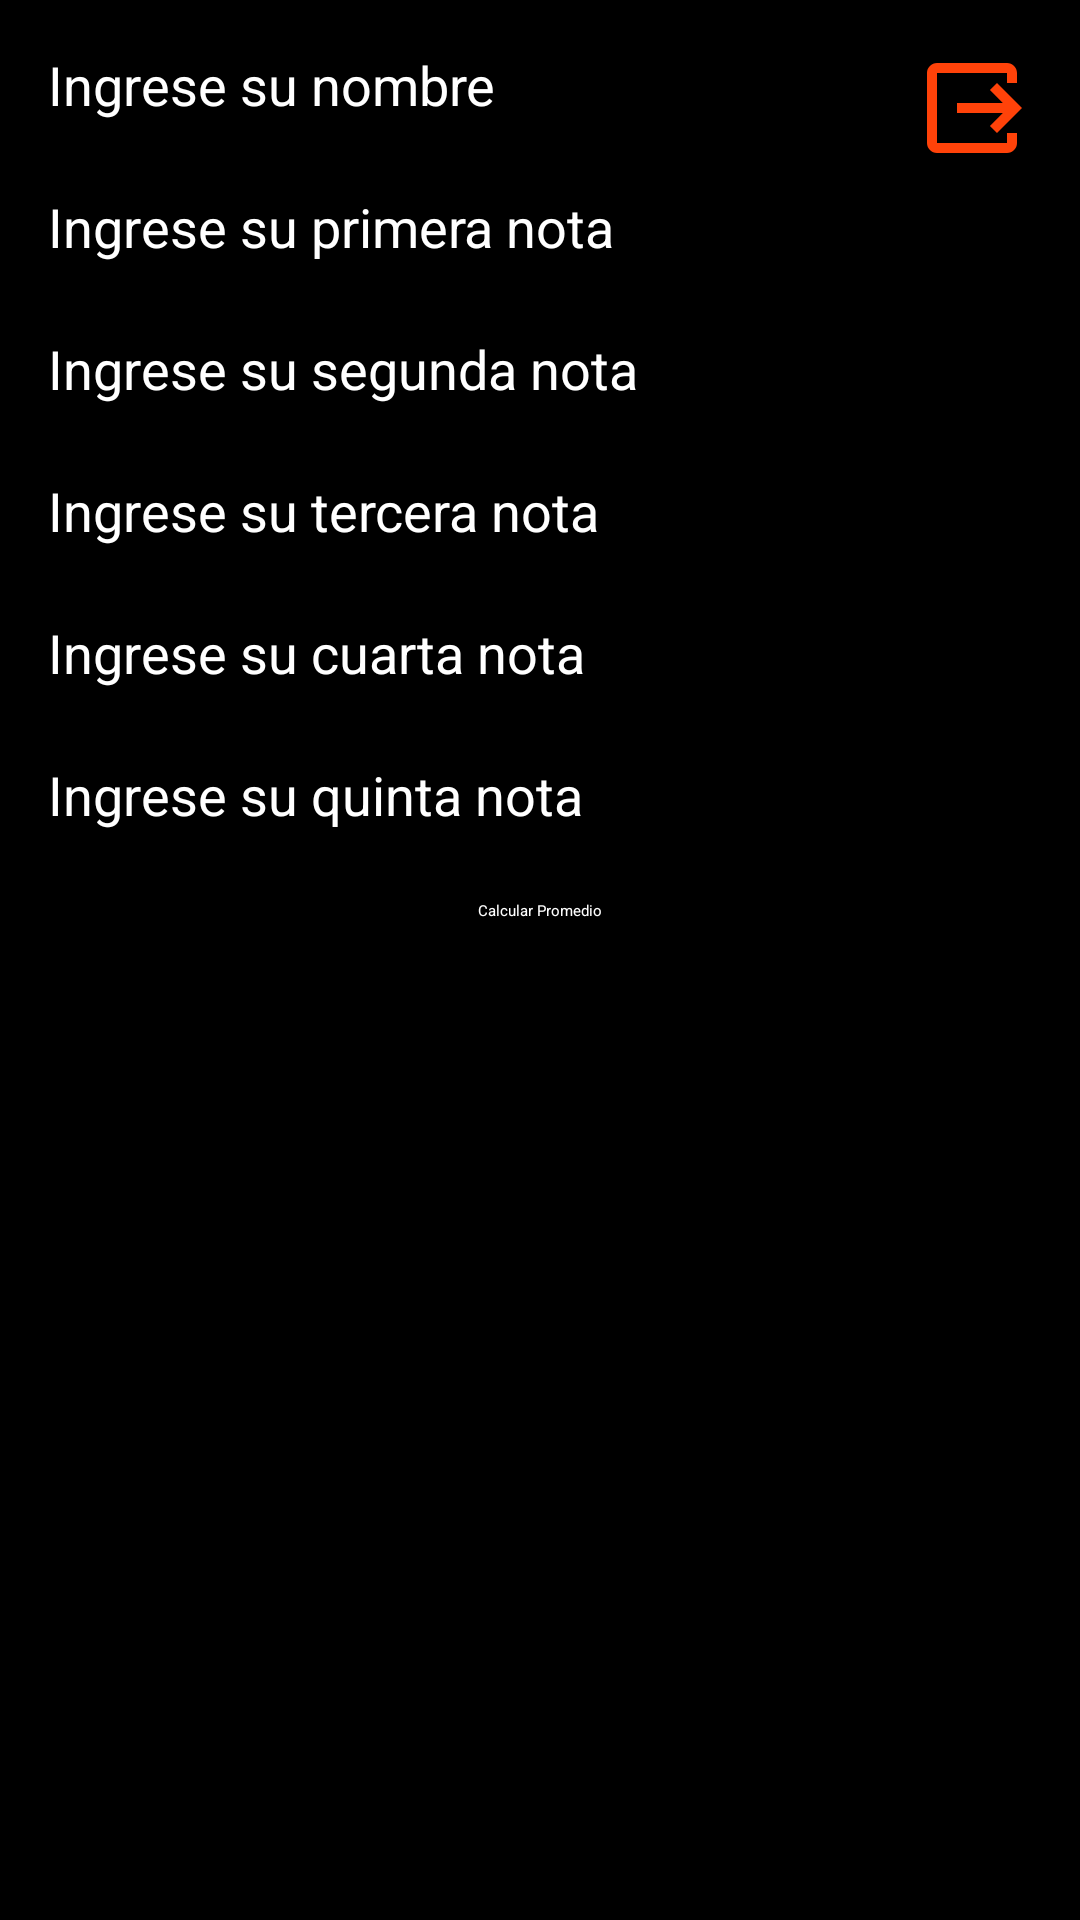

Locate icon controls on the screen. Image size 1080x1920, boxes as rect(x1, y1, x2, y2).
Salir: rect(927, 63, 1022, 153)
